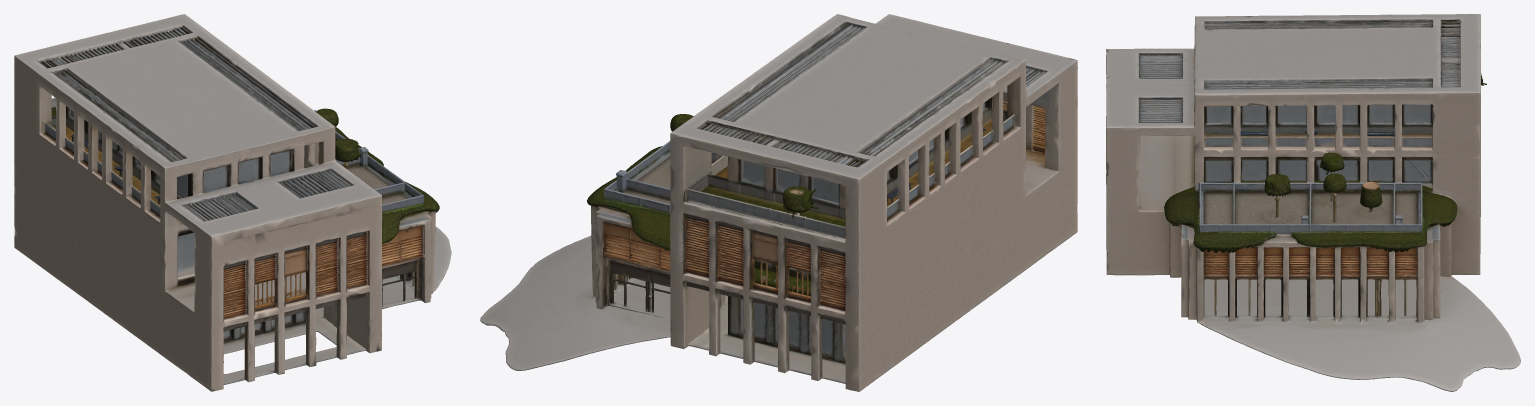
The model's file is shopblk2.glb.
The picture shows the model from 3 angles, left to right: view 1: azimuth 30°, elevation 25°; view 2: azimuth 150°, elevation 25°; view 3: azimuth 270°, elevation 25°; orthographic projection. The views are drawn at different scales.
Visible parts, largest first — view 1: tripo_node_5acd3120-45ed-42f4-8d7c-3d152befa4bf; view 2: tripo_node_5acd3120-45ed-42f4-8d7c-3d152befa4bf; view 3: tripo_node_5acd3120-45ed-42f4-8d7c-3d152befa4bf.
Boxes of the visible parts, x1,y1,x2,y2 form: tripo_node_5acd3120-45ed-42f4-8d7c-3d152befa4bf: [14, 14, 451, 391]; tripo_node_5acd3120-45ed-42f4-8d7c-3d152befa4bf: [480, 14, 1077, 391]; tripo_node_5acd3120-45ed-42f4-8d7c-3d152befa4bf: [1106, 14, 1520, 391].
Bounding box in the file's own units: 19.62 × 12 × 20.81.
1 material, 1 textured.
